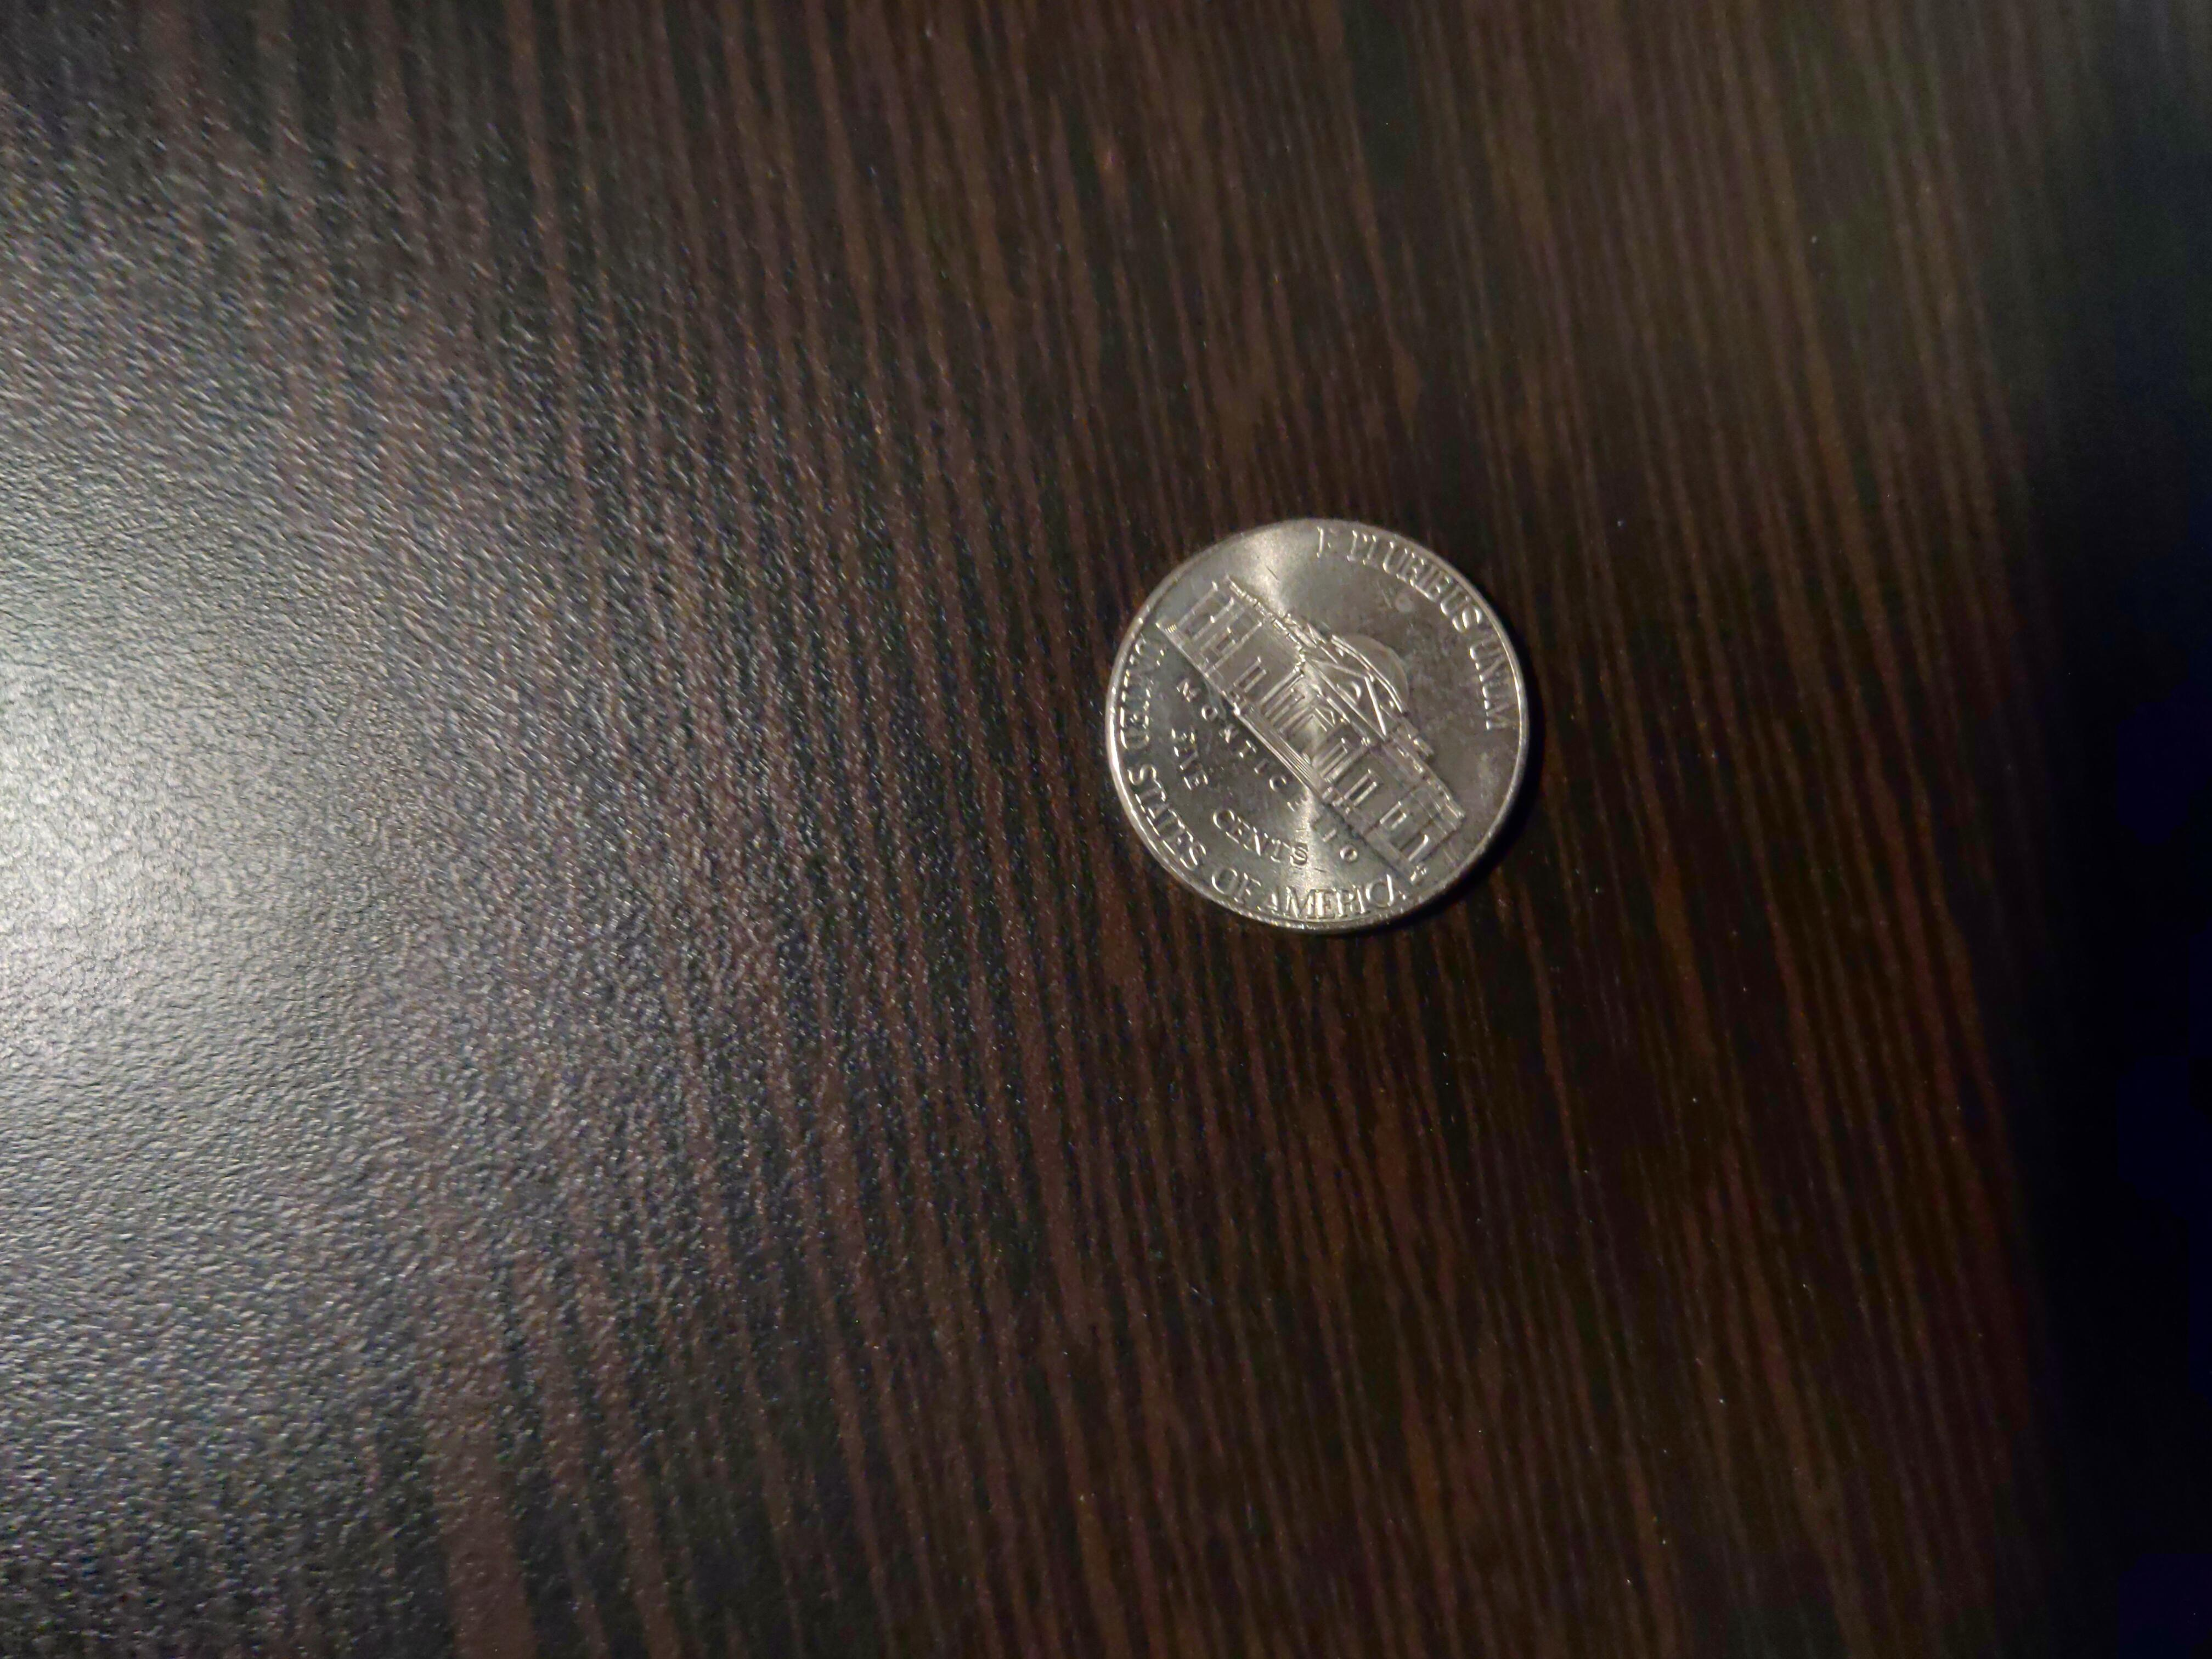Nickel: (1097, 514, 1540, 941)
